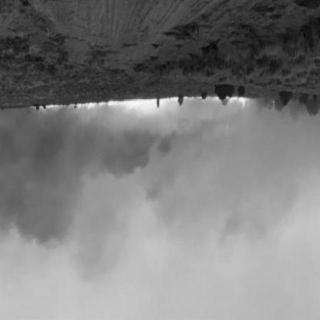Fire: (106, 100, 164, 116)
